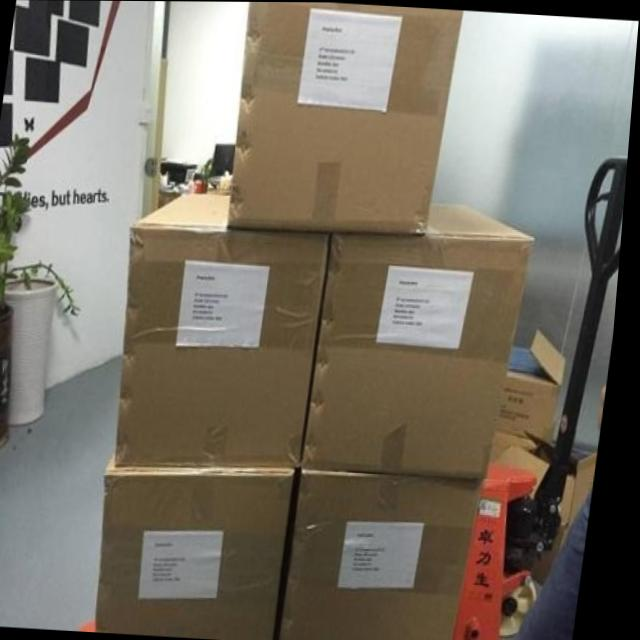box: (308, 200, 538, 478), (122, 193, 333, 467), (233, 1, 463, 233), (107, 453, 303, 640), (291, 467, 489, 640), (499, 327, 574, 461), (542, 452, 604, 583), (503, 431, 563, 500)
